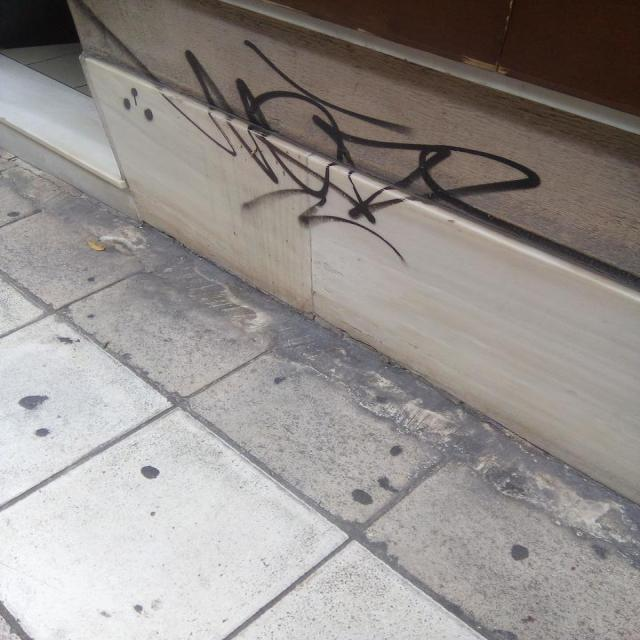nonspitting: (122, 40, 538, 266)
